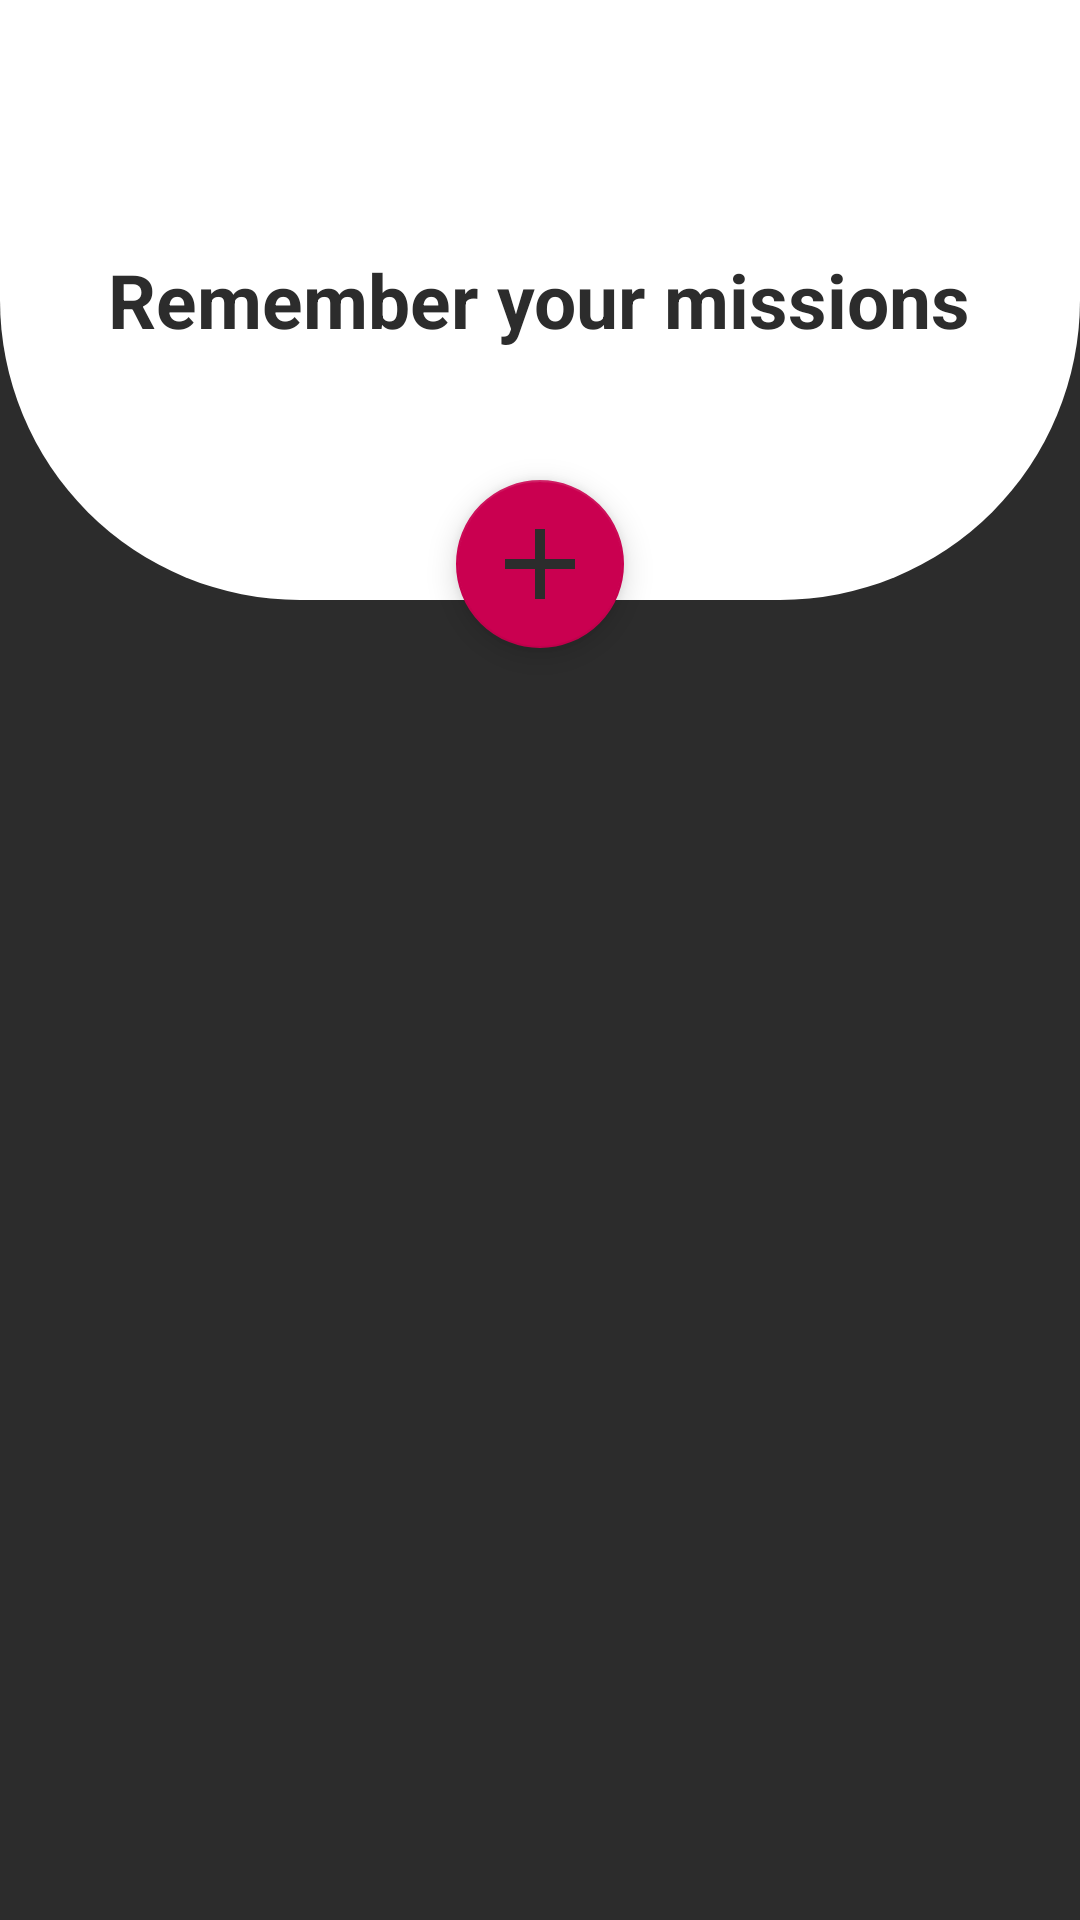

Point at icon controls on the screen. Image size 1080 × 1920, points as [x,y].
add: [540,564]
